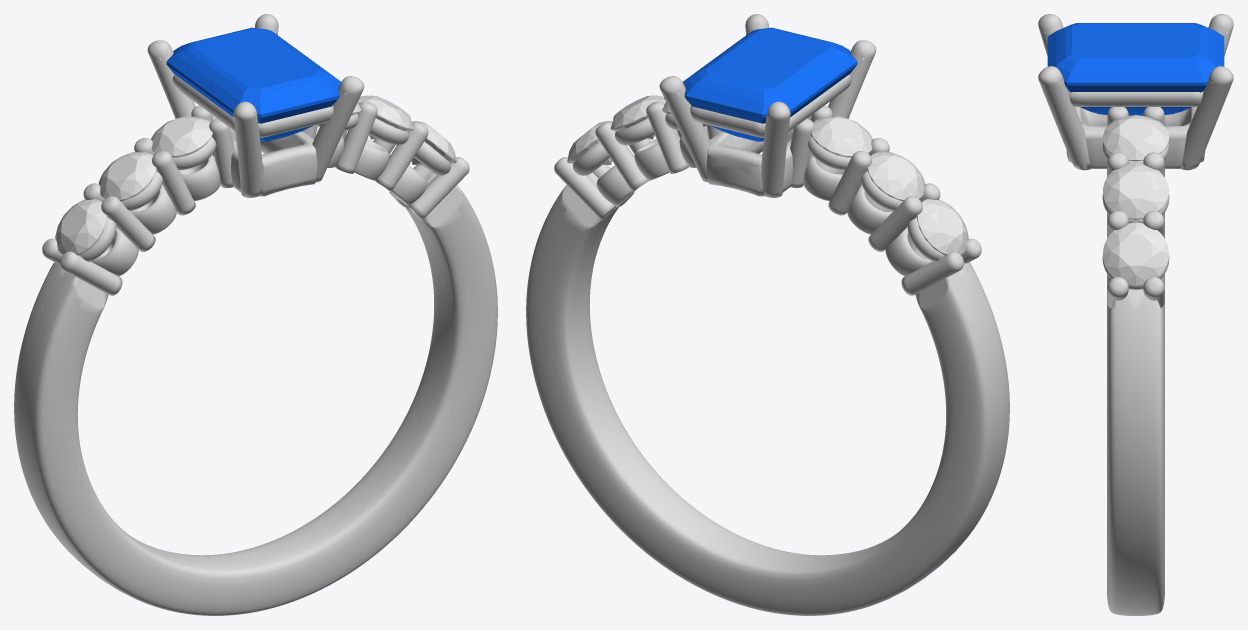
The model's file is bluesapphire-emerald-platinum-4prong-straightband-7stone.glb.
3 renders of one model, left to right at view 1: azimuth 30°, elevation 25°; view 2: azimuth 150°, elevation 25°; view 3: azimuth 270°, elevation 25°, orthographic.
Parts seen in each view (by area): view 1: metal.003, stone, side, side.001, side.002, side.004, side.005; view 2: metal.003, stone, side, side.001, side.002, side.004, side.005; view 3: metal.003, stone, side.005, side.004, side.003.
Boxes of the visible parts, bbox=[...] form: metal.003: bbox=[14, 14, 497, 615]; stone: bbox=[166, 27, 340, 141]; side: bbox=[55, 199, 107, 255]; side.001: bbox=[98, 152, 156, 201]; side.002: bbox=[151, 116, 212, 157]; side.004: bbox=[358, 95, 413, 139]; side.005: bbox=[410, 121, 456, 164]; metal.003: bbox=[526, 14, 1009, 615]; stone: bbox=[683, 27, 857, 141]; side: bbox=[916, 199, 968, 255]; side.001: bbox=[867, 152, 925, 201]; side.002: bbox=[811, 116, 872, 157]; side.004: bbox=[610, 95, 665, 139]; side.005: bbox=[567, 121, 613, 164]; metal.003: bbox=[1038, 14, 1233, 615]; stone: bbox=[1047, 23, 1224, 115]; side.005: bbox=[1103, 222, 1168, 285]; side.004: bbox=[1103, 163, 1168, 219]; side.003: bbox=[1103, 115, 1168, 161].
Size of the model in its own units: 20.51 by 22.94 by 7.4.
